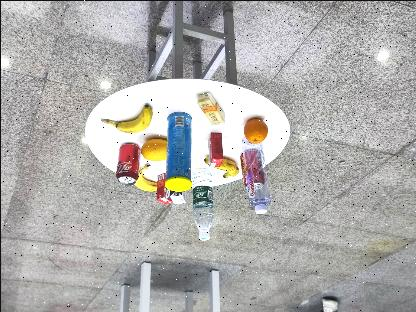Can: (115, 142, 139, 188)
Others: (166, 107, 196, 191), (204, 127, 222, 167)
Plastic Bottle: (242, 142, 269, 210), (191, 164, 213, 246)
